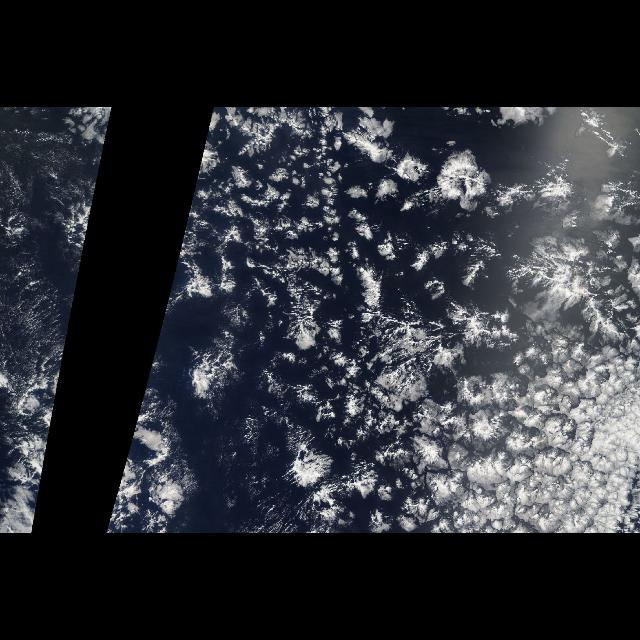Flower: (379, 166, 597, 466)
Gravel: (186, 262, 459, 448)
